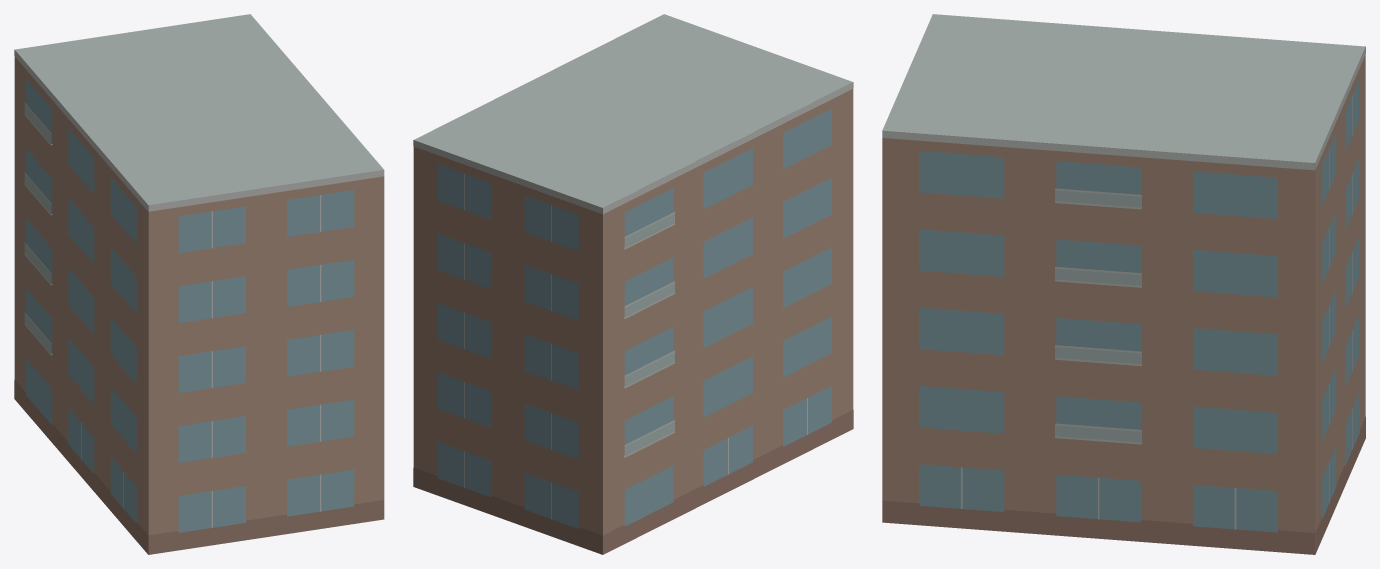
The model's file is survey-upis-32852625.glb.
The picture shows the model from 3 angles, left to right: view 1: azimuth 30°, elevation 25°; view 2: azimuth 150°, elevation 25°; view 3: azimuth 270°, elevation 25°; orthographic projection. The views are drawn at different scales.
Visible parts, largest first — view 1: survey-upis-32852625.tmp; view 2: survey-upis-32852625.tmp; view 3: survey-upis-32852625.tmp.
Part boxes in pixels (left/top/right/bottom): survey-upis-32852625.tmp: left=14, top=14, right=384, bottom=554; survey-upis-32852625.tmp: left=413, top=14, right=853, bottom=554; survey-upis-32852625.tmp: left=882, top=14, right=1365, bottom=554.
Size of the model in its own units: 10.78 by 13.2 by 14.78.
